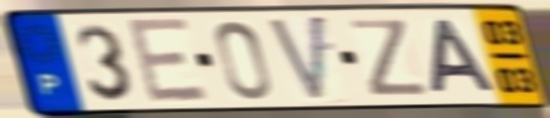0: (212, 18, 275, 103)
3: (74, 21, 133, 103)
A: (429, 17, 501, 97)
E: (122, 16, 213, 107)
V: (264, 11, 328, 106)
Z: (346, 17, 434, 99)
